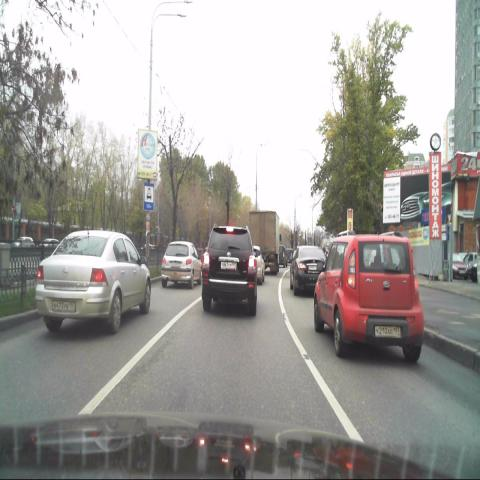7_5: (143, 182, 154, 211)
